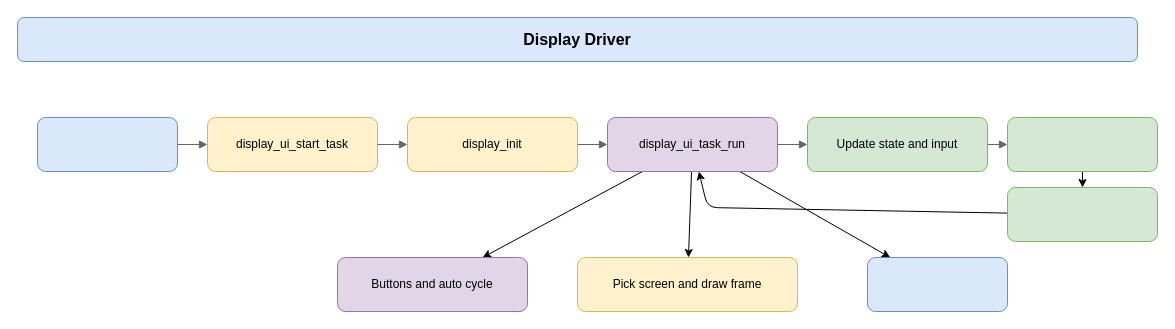
Some shapes in this 1175 by 329 pixel diagram are drawn without their labels. Each missing label, with the box of its shape:
Feed Watchdog: (1006, 186, 1158, 242)
Poll delay: (866, 256, 1008, 312)
Render and flush: (1006, 116, 1158, 172)
Start: (36, 116, 178, 172)
